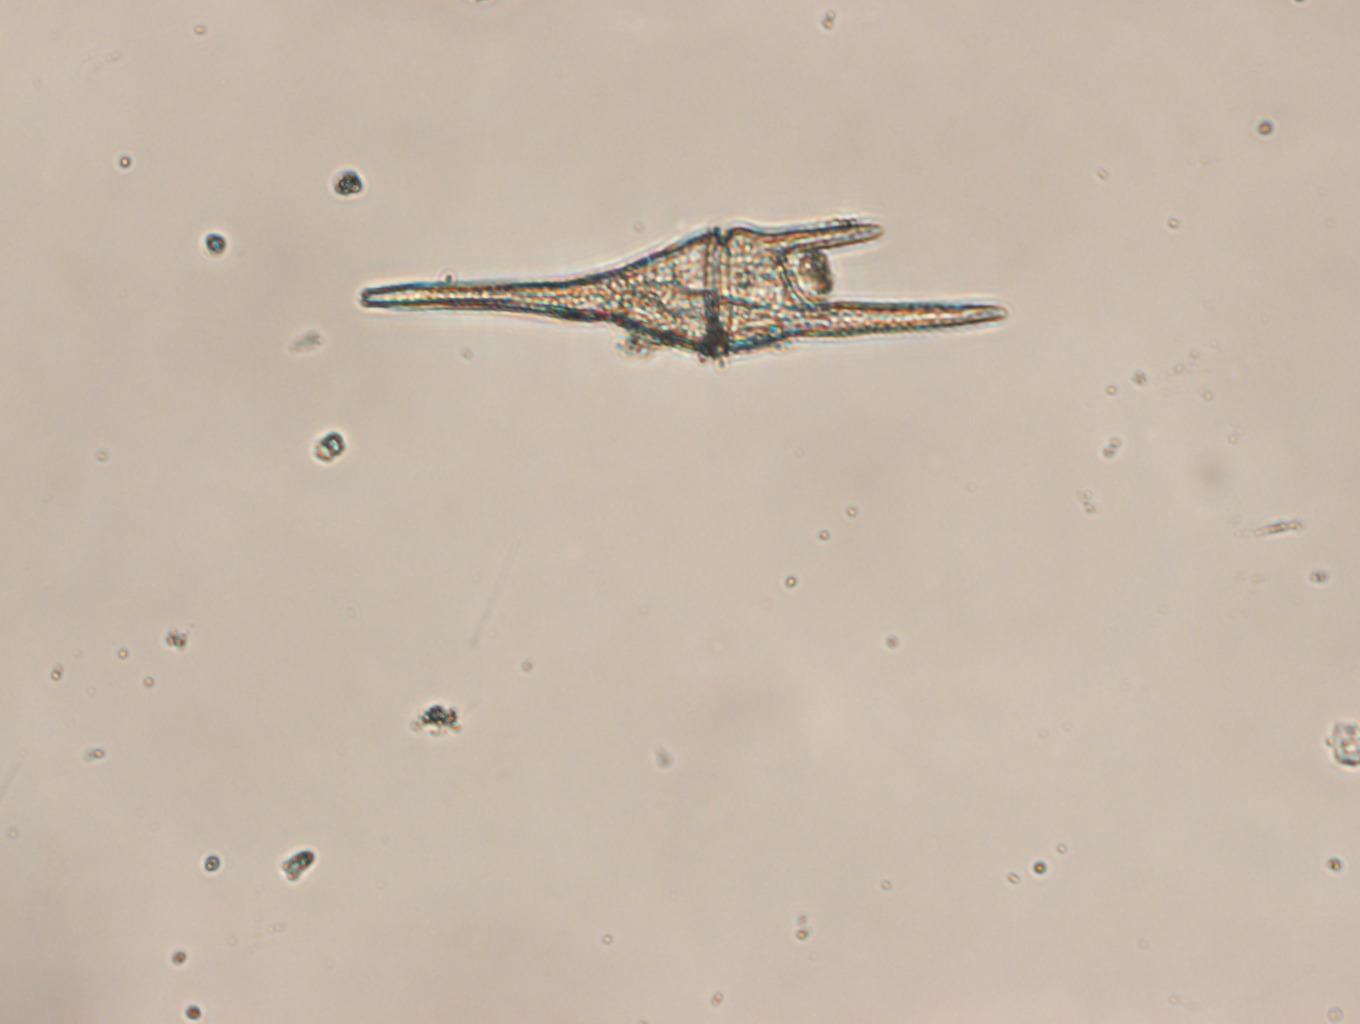ceratium furca: (358, 213, 1011, 356)
